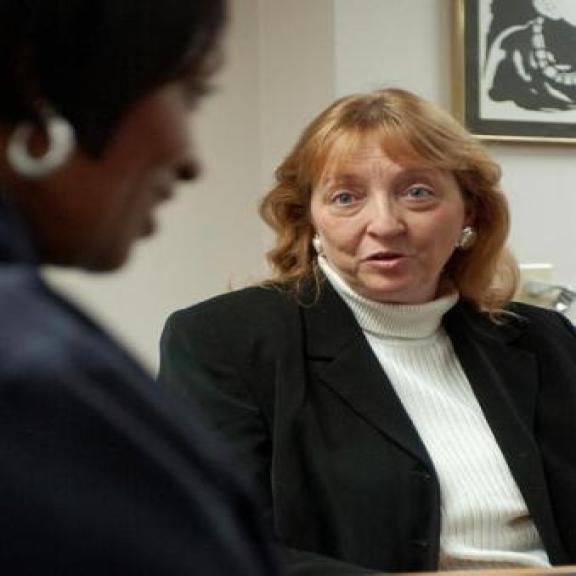face: (72, 2, 239, 282), (306, 140, 485, 306)
